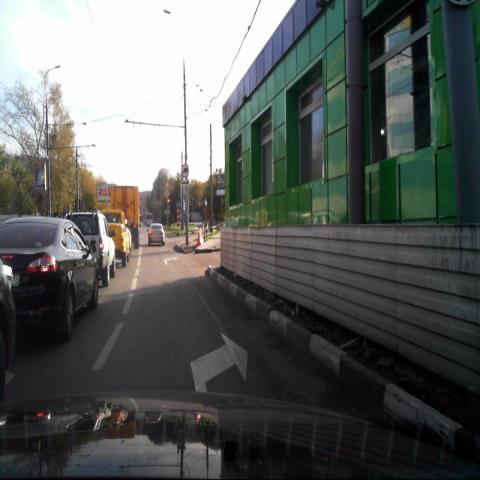3_4_1: (181, 164, 189, 178)
